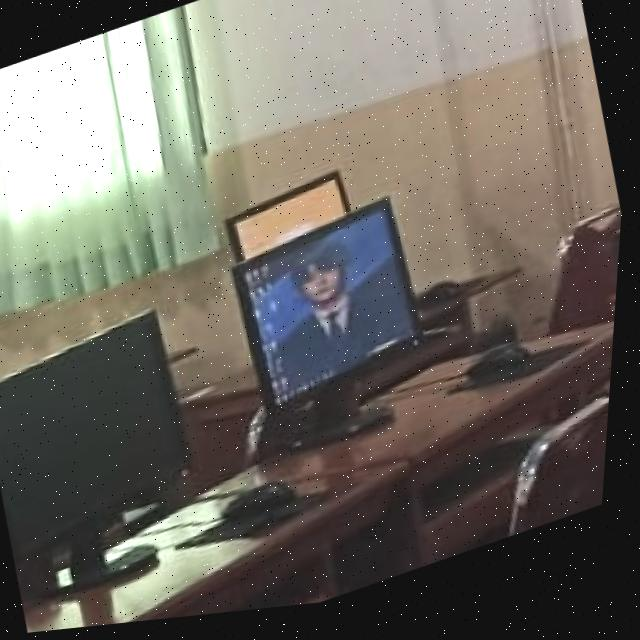onscreen: (236, 206, 427, 410)
